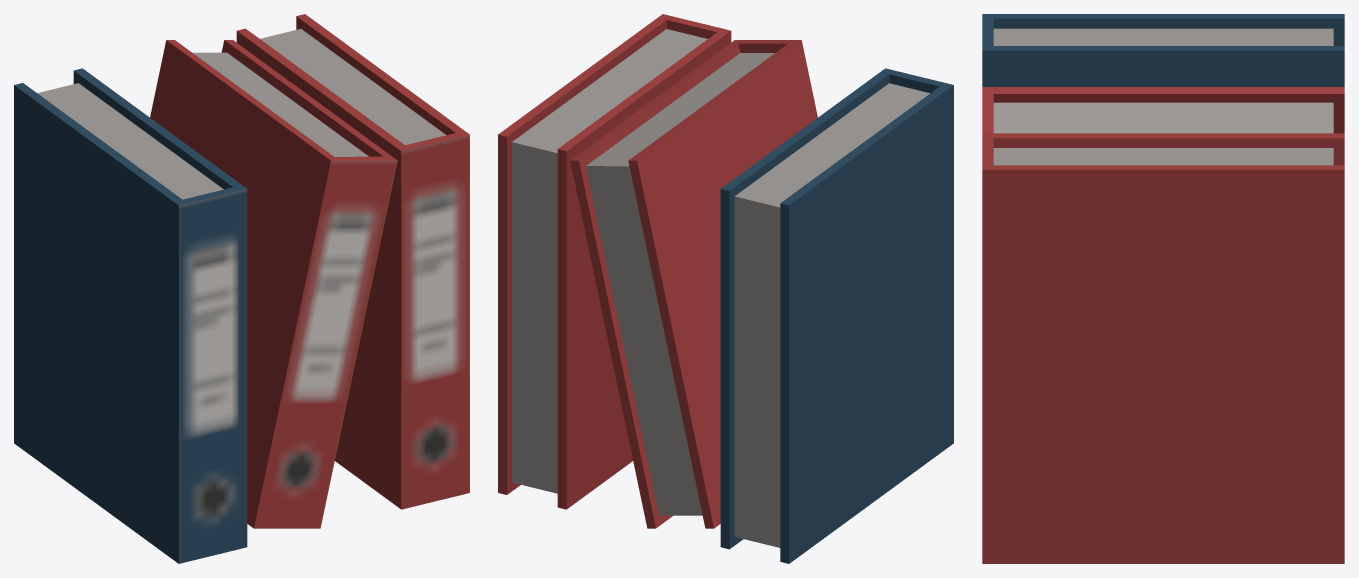
The model's file is SM_Props_Interior_Generic_Office_File_Large_Preset_02.fbx.
3 views of the same model, side by side, from view 1: azimuth 30°, elevation 25°; view 2: azimuth 150°, elevation 25°; view 3: azimuth 270°, elevation 25° (orthographic). The views are drawn at different scales.
Parts seen in each view (by area): view 1: SM_Props_Interior_Generic_Office_File_Large_Preset_02; view 2: SM_Props_Interior_Generic_Office_File_Large_Preset_02; view 3: SM_Props_Interior_Generic_Office_File_Large_Preset_02.
Part boxes in pixels (bbox=[...]): SM_Props_Interior_Generic_Office_File_Large_Preset_02: bbox=[14, 14, 469, 563]; SM_Props_Interior_Generic_Office_File_Large_Preset_02: bbox=[498, 14, 953, 563]; SM_Props_Interior_Generic_Office_File_Large_Preset_02: bbox=[982, 14, 1344, 563].
Size of the model in its own units: 51 by 61.31 by 50.
